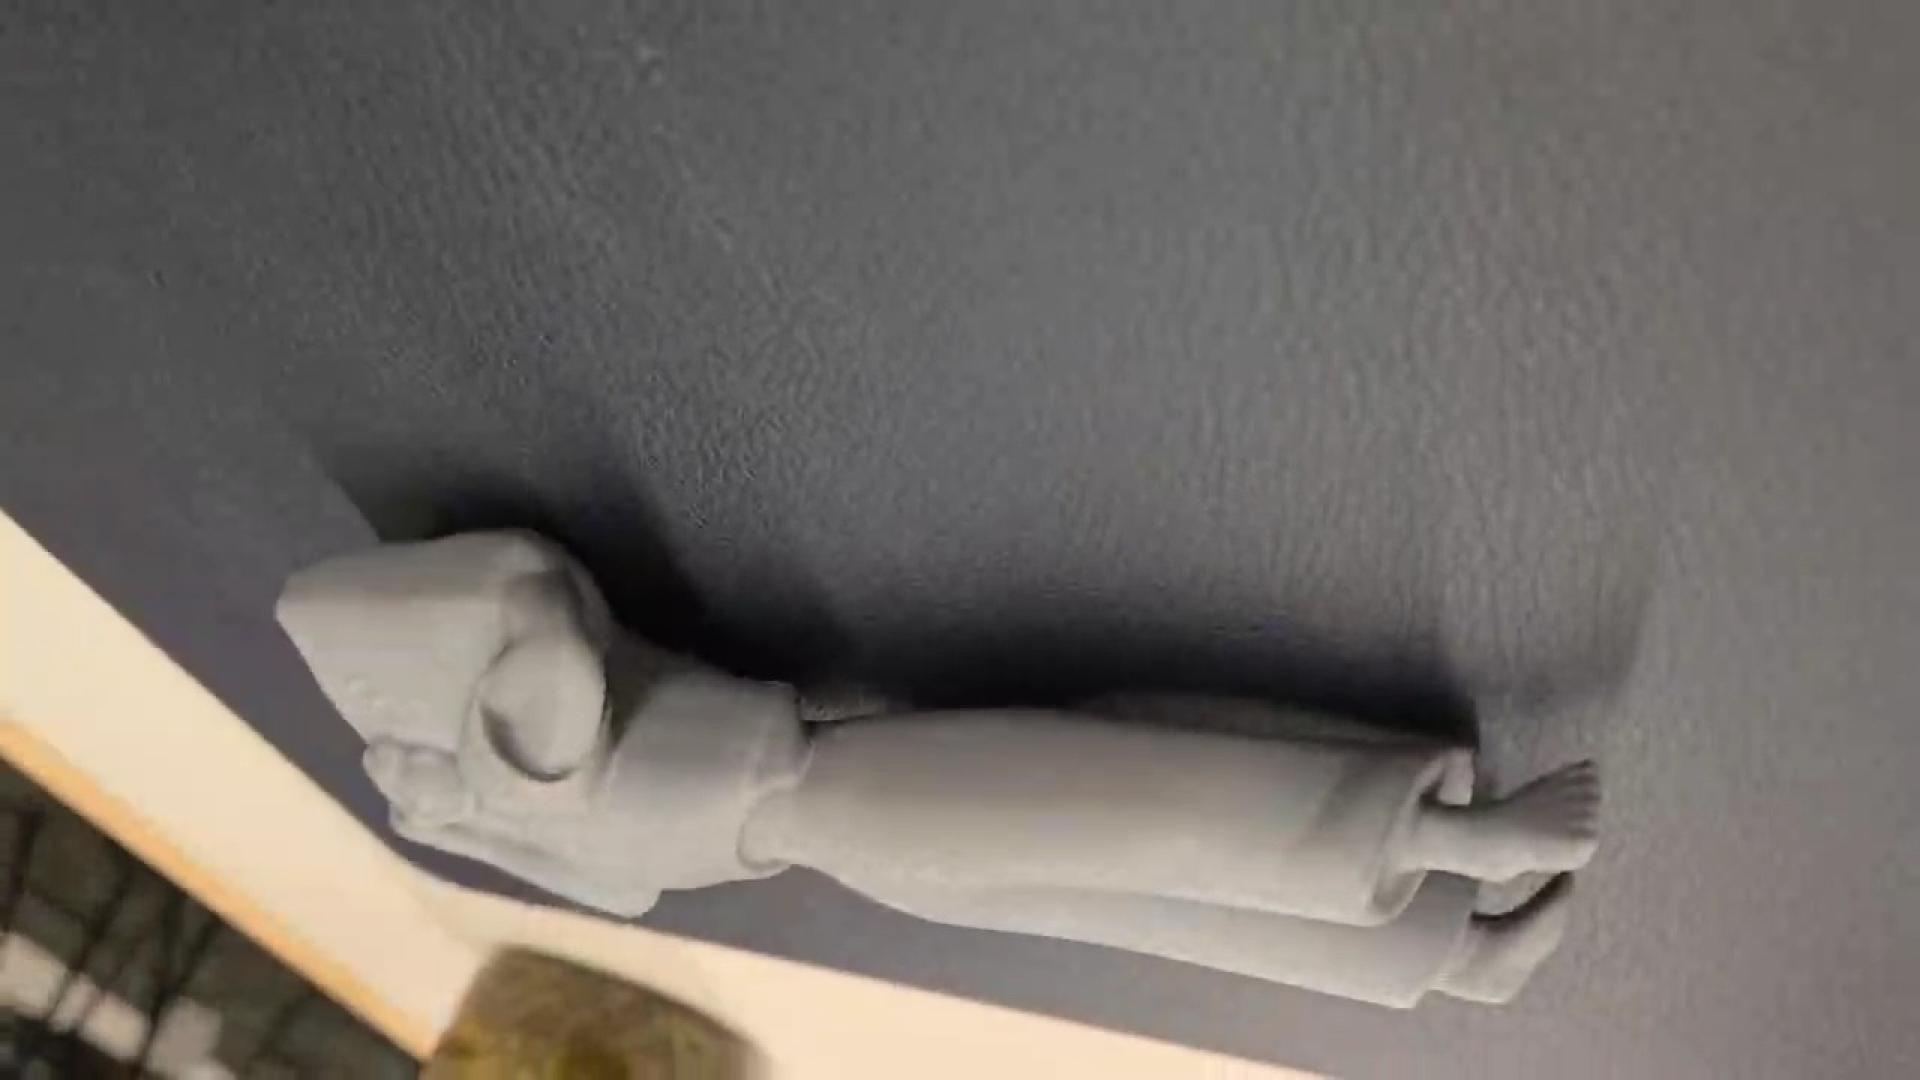Bad-style: (274, 526, 1610, 1017)
